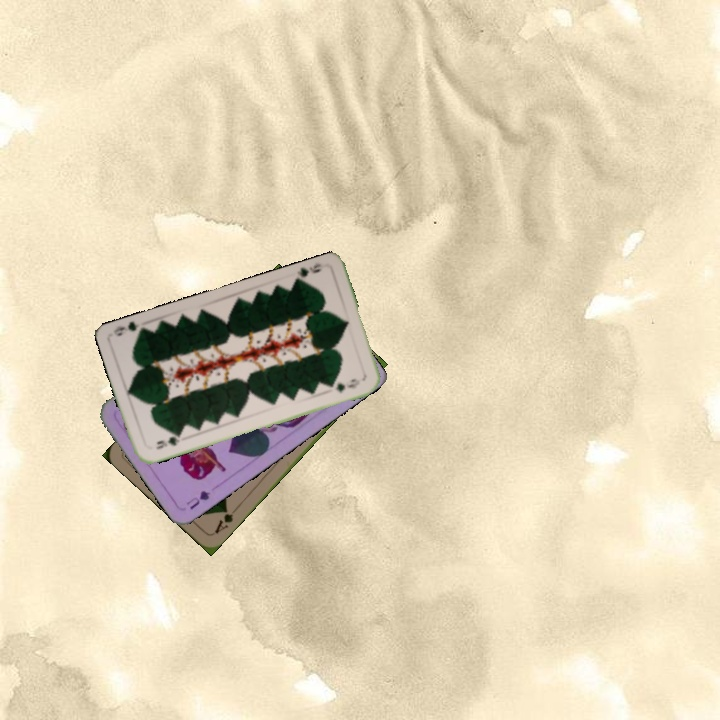G9: (291, 259, 325, 285), (152, 430, 184, 452)
GA: (210, 503, 241, 536)
GU: (182, 486, 213, 512)
